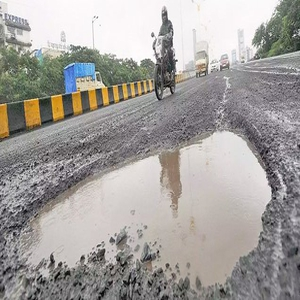pothole: (19, 117, 280, 289)
